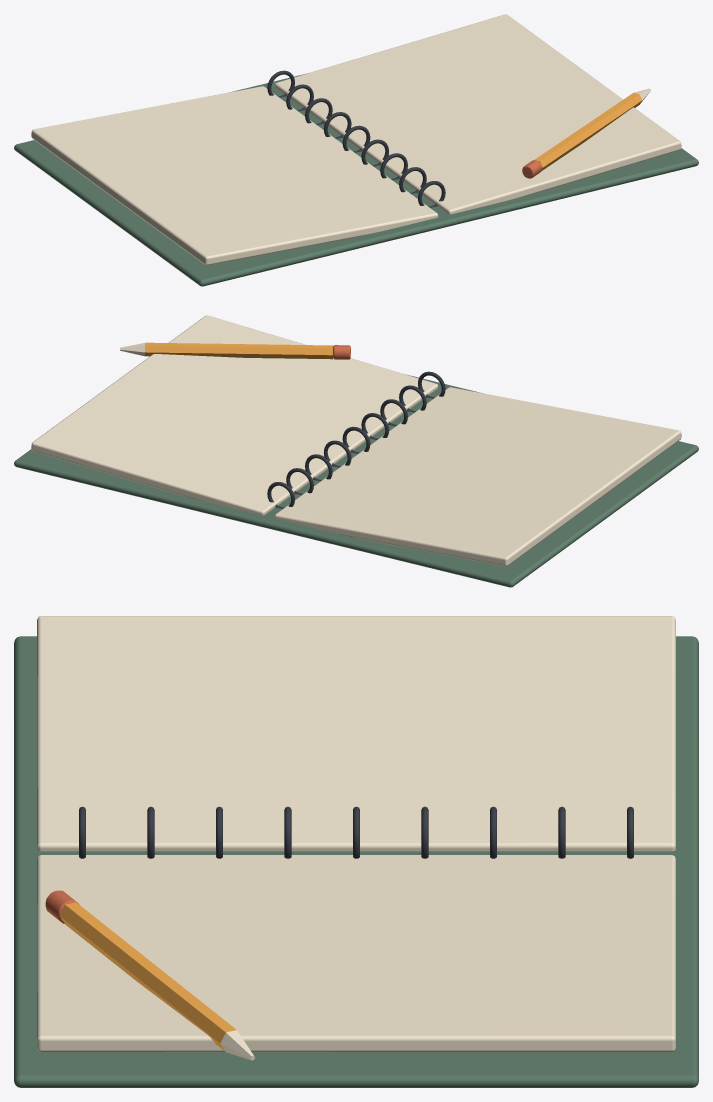
Rendered from sketchbook.glb.
The picture shows the model from 3 angles, top to bottom: view 1: azimuth 30°, elevation 25°; view 2: azimuth 150°, elevation 25°; view 3: azimuth 270°, elevation 25°; orthographic projection. The views are drawn at different scales.
Visible parts, largest first — view 1: SketchPages.001, PageLeft, SketchCover, SketchPages, PencilBody; view 2: SketchPages.001, PageLeft, SketchCover, SketchPages, PencilBody; view 3: PageLeft, SketchPages.001, SketchCover, SketchPages, PencilBody.
Boxes of the visible parts, <box> form: SketchPages.001: <box>274,14,681,214</box>; PageLeft: <box>43,89,425,251</box>; SketchCover: <box>14,74,698,286</box>; SketchPages: <box>31,86,438,265</box>; PencilBody: <box>534,92,642,170</box>; SketchPages.001: <box>31,315,438,515</box>; PageLeft: <box>287,390,669,552</box>; SketchCover: <box>14,375,698,587</box>; SketchPages: <box>274,387,681,566</box>; PencilBody: <box>145,342,333,359</box>; PageLeft: <box>54,620,658,834</box>; SketchPages.001: <box>37,855,675,1052</box>; SketchCover: <box>14,636,698,1087</box>; SketchPages: <box>37,616,675,851</box>; PencilBody: <box>59,902,236,1051</box>.
Size of the model in its own units: 0.4744 by 0.0286 by 0.3.
